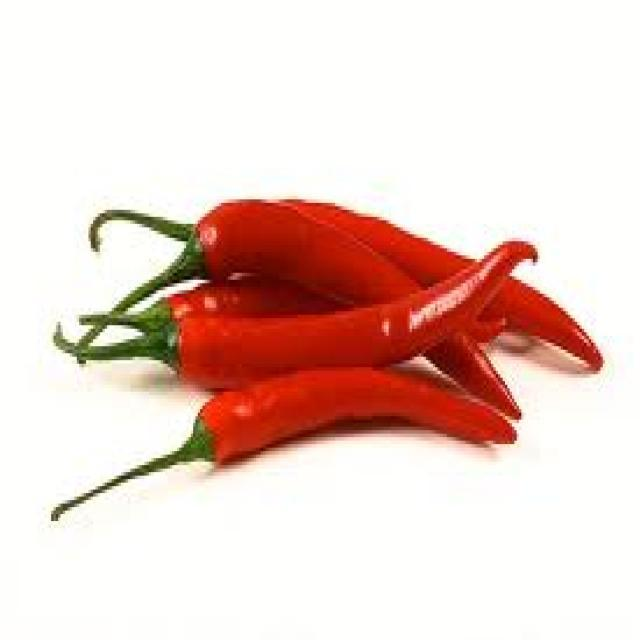Chili: (31, 182, 614, 504)
